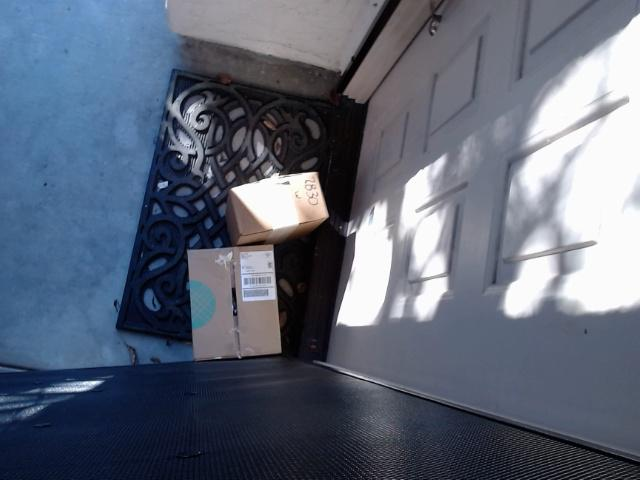box: (186, 245, 282, 362), (226, 172, 329, 245)
